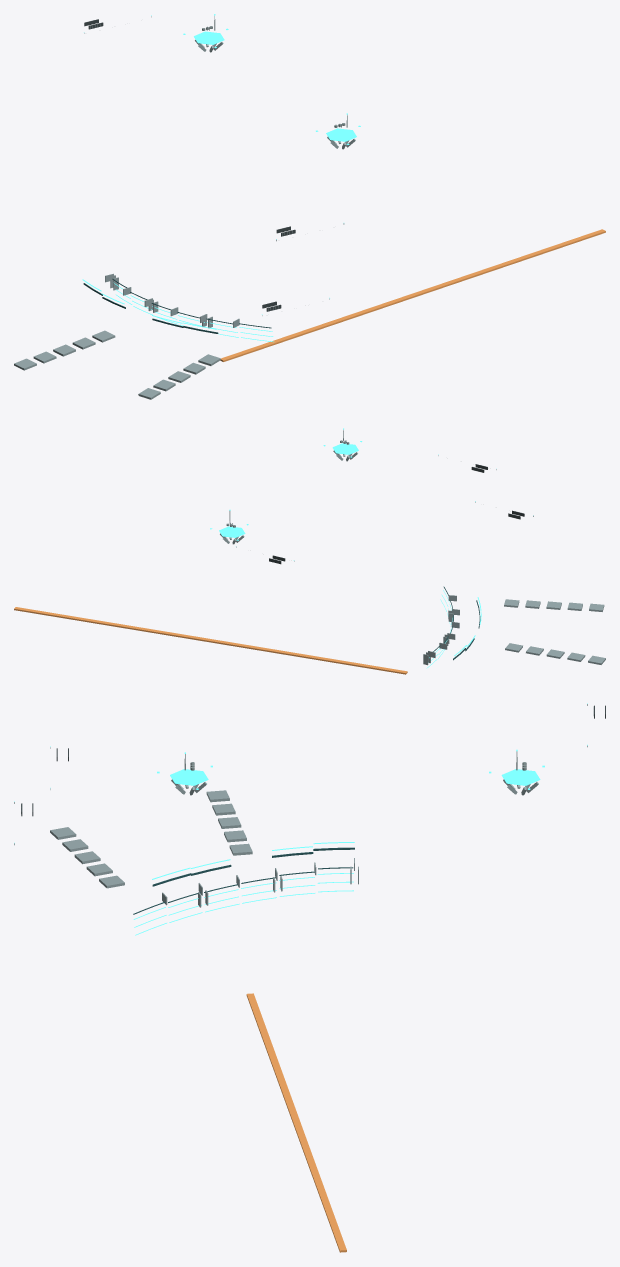
File: Weather_Lung_Sector_06_Dressing.glb
The picture shows the model from 3 angles, top to bottom: view 1: azimuth 30°, elevation 25°; view 2: azimuth 150°, elevation 25°; view 3: azimuth 270°, elevation 25°; orthographic projection. The views are drawn at different scales.
Visible parts, largest first — view 1: Weather_Lung_Sector_06_Dressing; view 2: Weather_Lung_Sector_06_Dressing; view 3: Weather_Lung_Sector_06_Dressing.
Part boxes in pixels (x1,y1,x2,y2): Weather_Lung_Sector_06_Dressing: (14,14,605,399); Weather_Lung_Sector_06_Dressing: (14,428,605,674); Weather_Lung_Sector_06_Dressing: (14,703,605,1252).
Size of the model in its own units: 11676 by 4284 by 7494.
